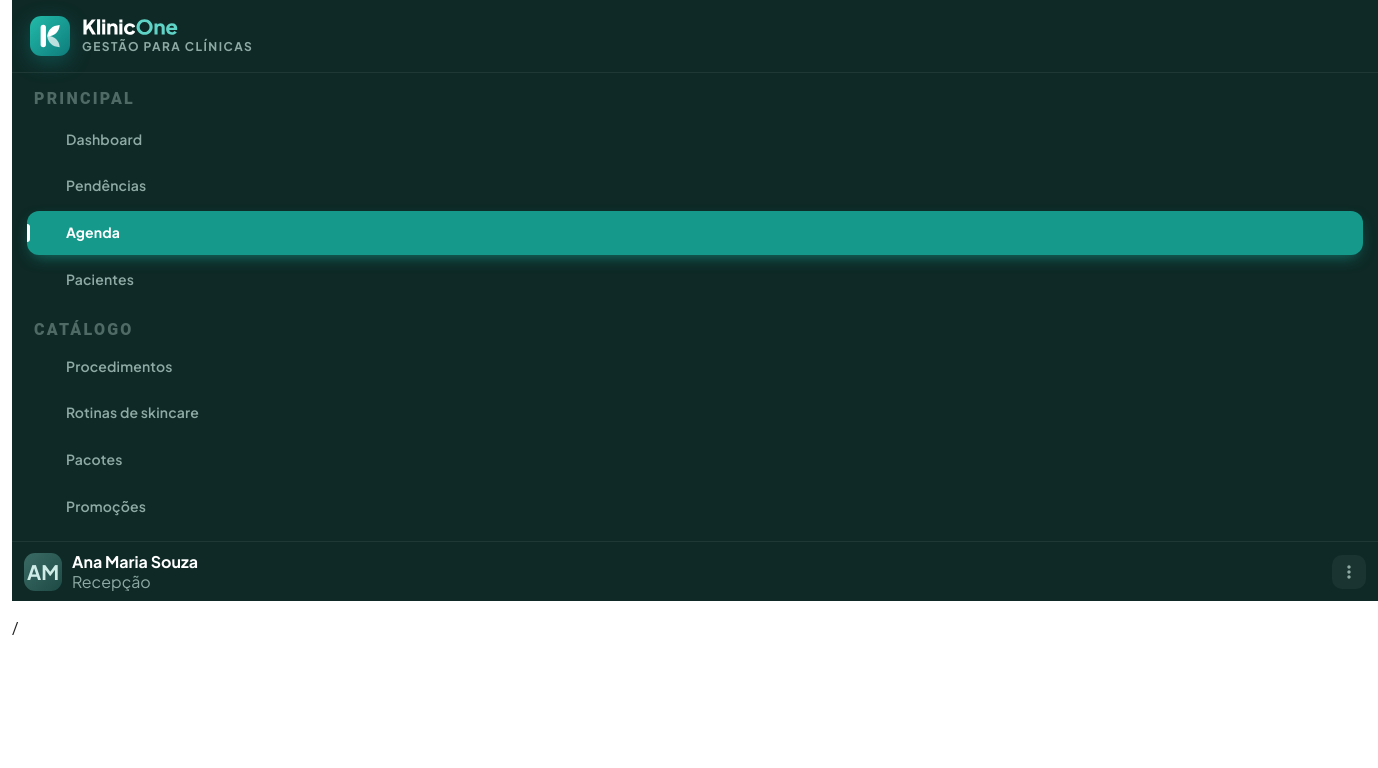
it: SidebarContent › sem canChoosePanel não oferece trocar painel
The width and height of the screenshot is (1378, 768).
Click the button with aria-label "Menu do usuário" at (43, 572), box [24,552,1322,591]
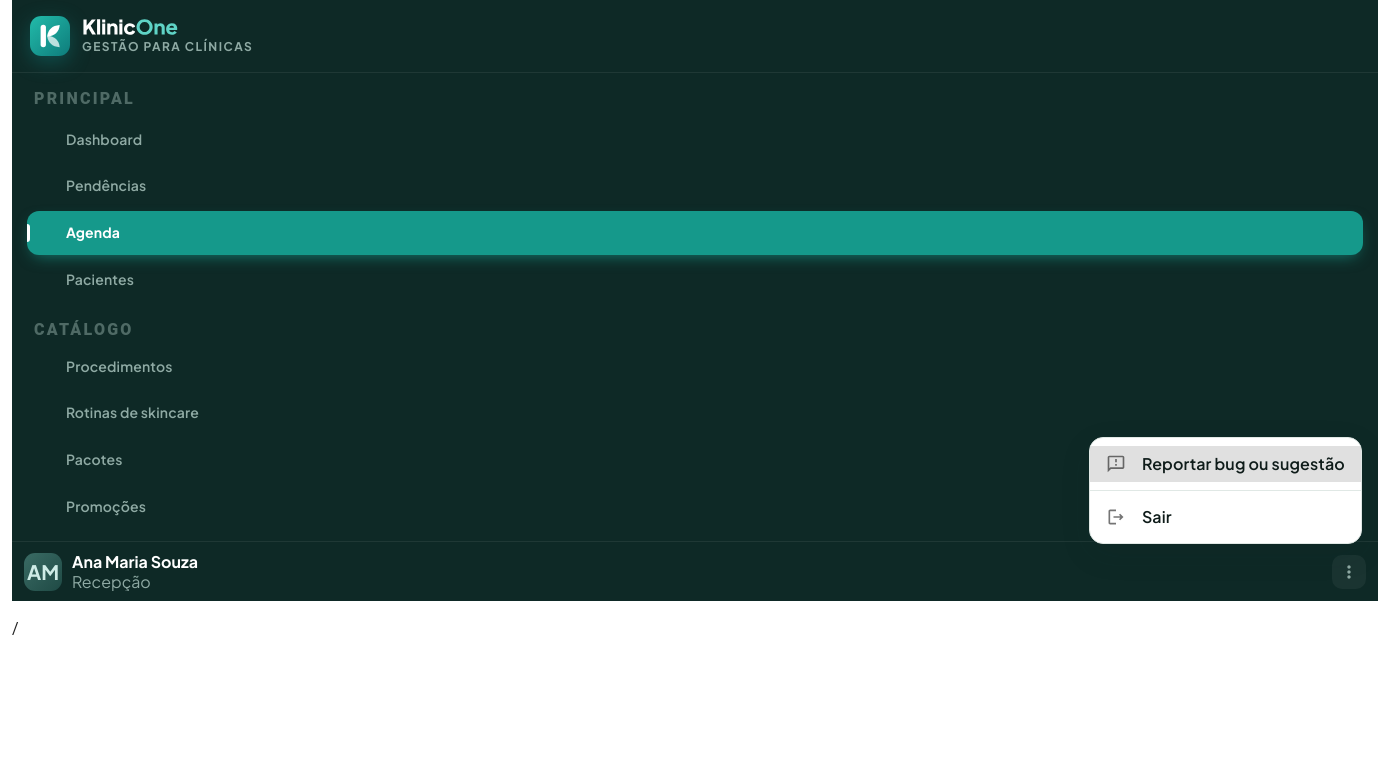
Now the menu item "Sair" is shown, box [1106,506,1172,527]
